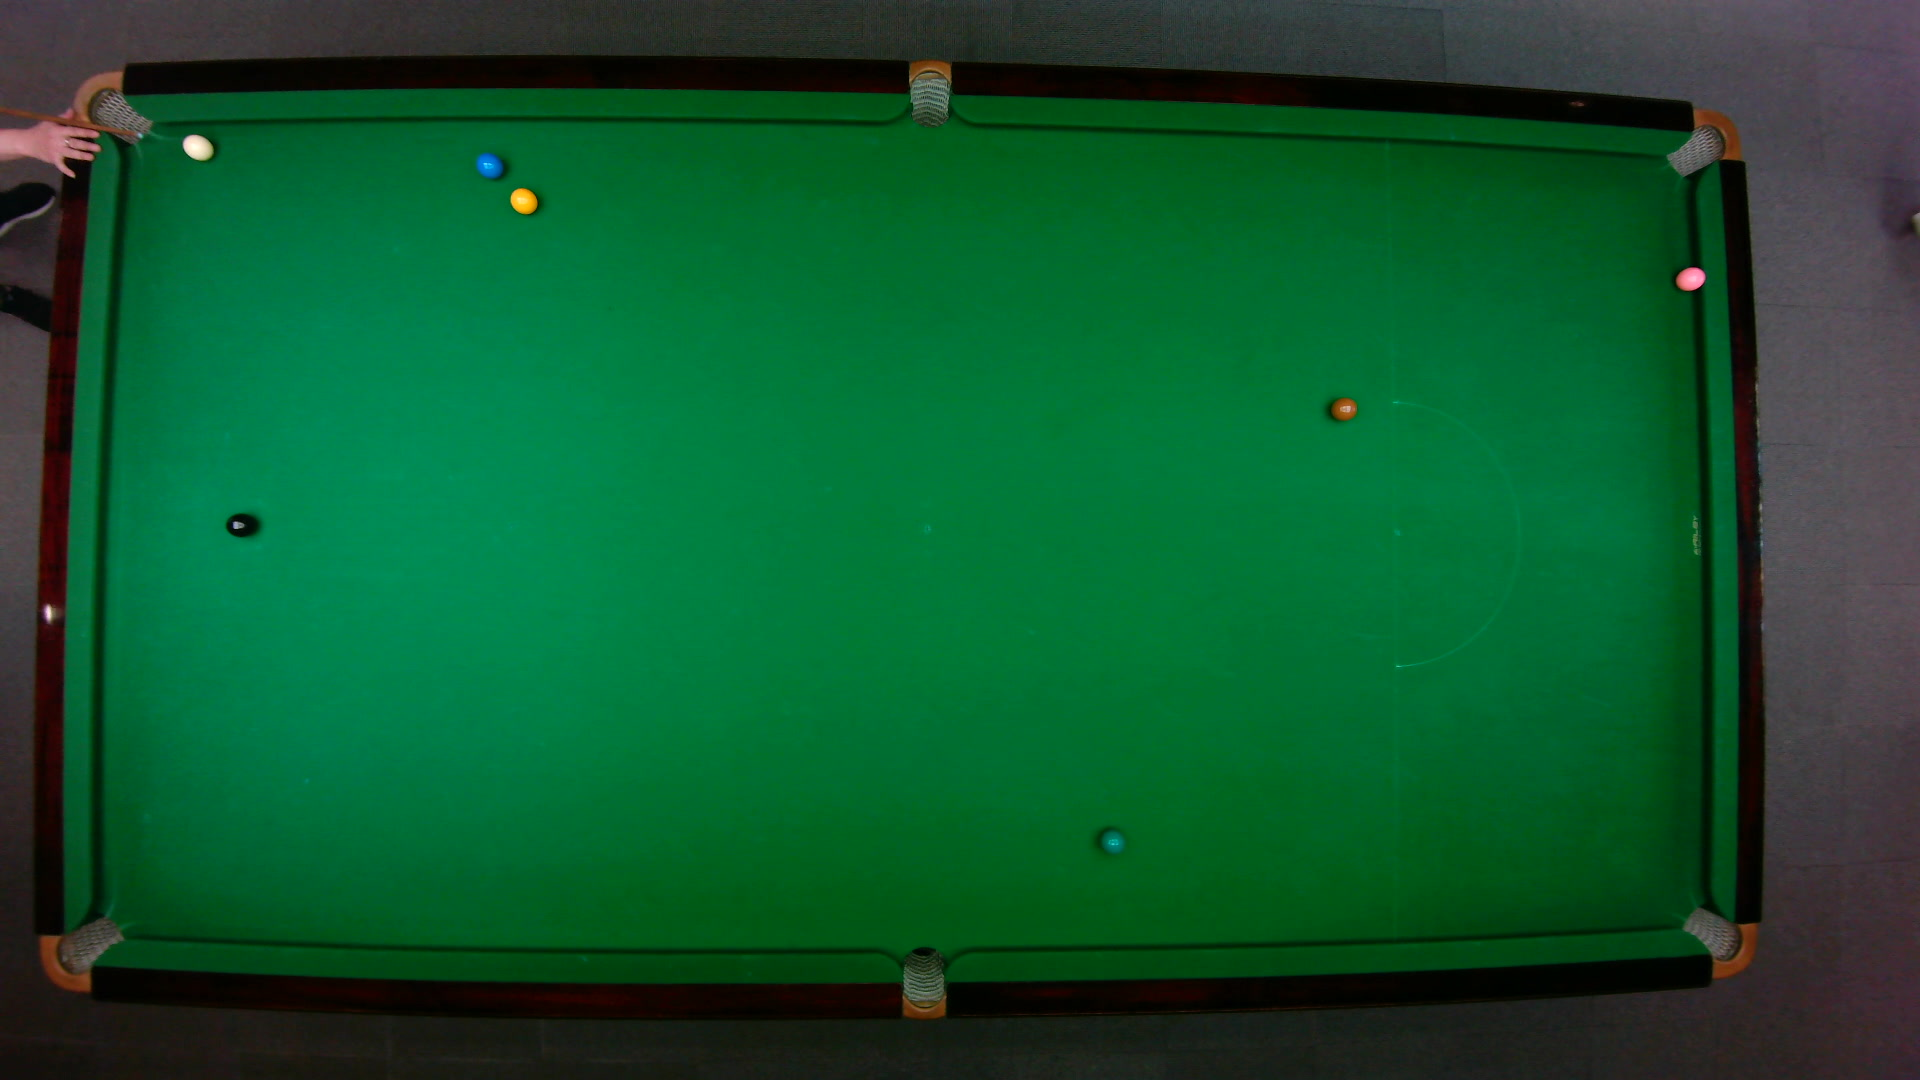bag: (37, 914, 125, 992), (69, 69, 152, 144), (1679, 905, 1756, 978), (1663, 107, 1742, 177), (901, 944, 944, 1021), (909, 57, 949, 128)
black: (224, 512, 256, 538)
blue: (473, 150, 504, 179)
brown: (1328, 396, 1358, 421)
green: (1097, 825, 1127, 855)
pink: (1673, 264, 1706, 291)
white: (179, 132, 215, 161)
yellow: (506, 185, 539, 215)
zone: (1390, 400, 1520, 669)
